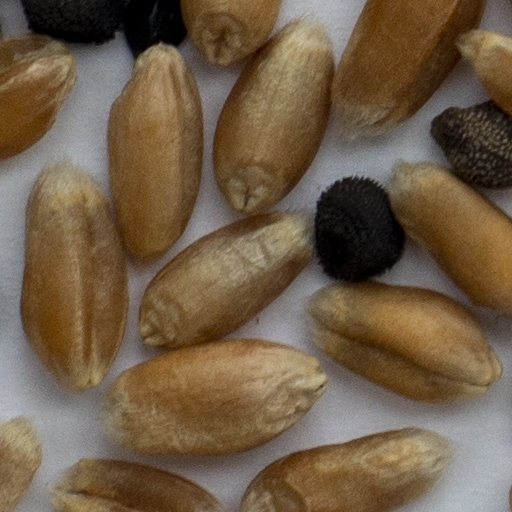Agrostemma-poly: (315, 177, 402, 279), (22, 0, 124, 40)
Convolvulus-poly: (433, 103, 511, 186)
Fallopia-Convolvulus-poly: (124, 0, 185, 52)
